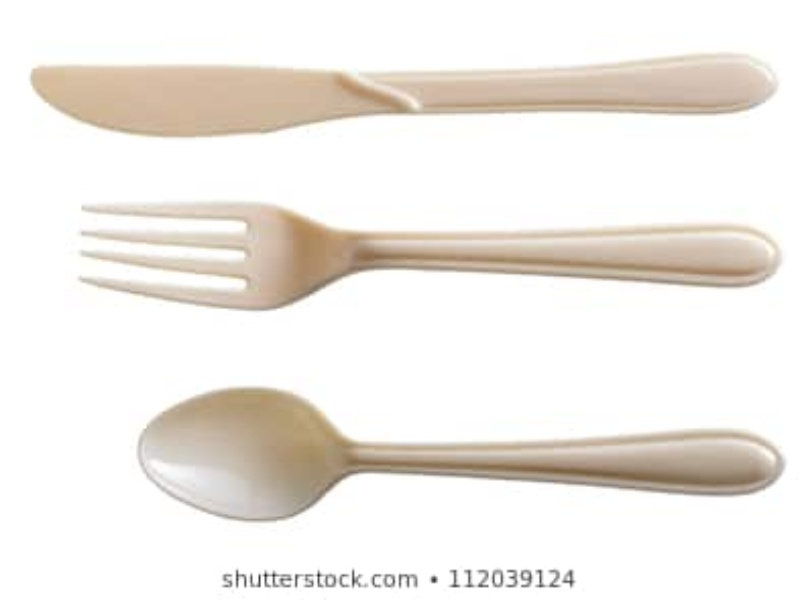plastic-silverware: (133, 383, 787, 526), (76, 193, 788, 316), (24, 49, 785, 140)
